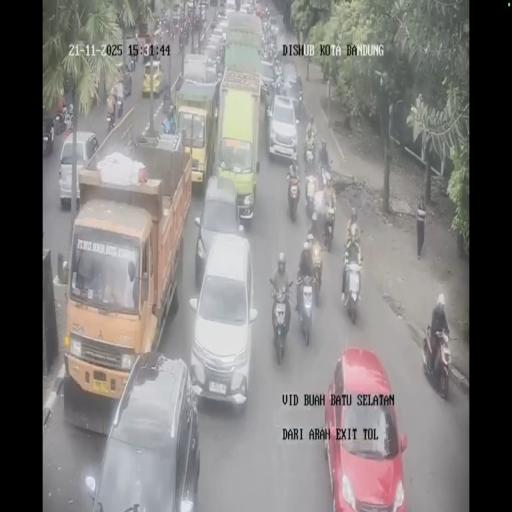car: (326, 349, 406, 509), (188, 232, 256, 409), (58, 132, 100, 209), (266, 93, 298, 162), (202, 41, 226, 81), (259, 60, 277, 101), (281, 60, 300, 96), (42, 116, 55, 154), (214, 4, 229, 27), (240, 1, 252, 14), (225, 0, 236, 13)
motorcycle: (422, 323, 451, 399), (269, 282, 293, 364), (294, 273, 318, 346), (308, 236, 324, 299), (344, 266, 360, 324), (344, 227, 362, 271), (322, 202, 336, 252), (287, 174, 300, 222), (304, 176, 318, 218), (261, 36, 277, 65), (318, 157, 332, 188), (304, 139, 316, 175), (53, 107, 67, 135), (106, 108, 116, 134), (122, 72, 132, 98), (125, 50, 136, 72), (154, 27, 164, 51), (162, 15, 172, 38), (65, 109, 74, 132), (178, 32, 186, 53)
truck: (62, 129, 191, 413), (212, 71, 262, 225), (173, 66, 219, 190), (222, 8, 263, 81), (184, 1, 195, 24), (172, 3, 182, 28), (198, 0, 208, 20)
